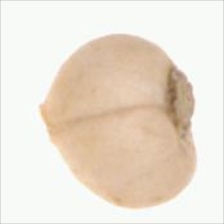L3: (35, 102, 58, 146)
L4: (38, 35, 197, 209)
